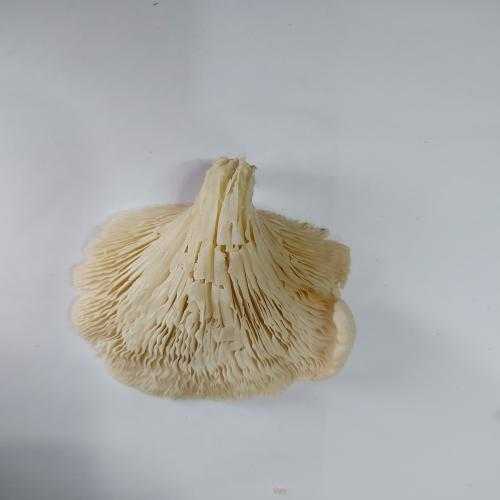Oyster Mushroom: (70, 155, 357, 401)
